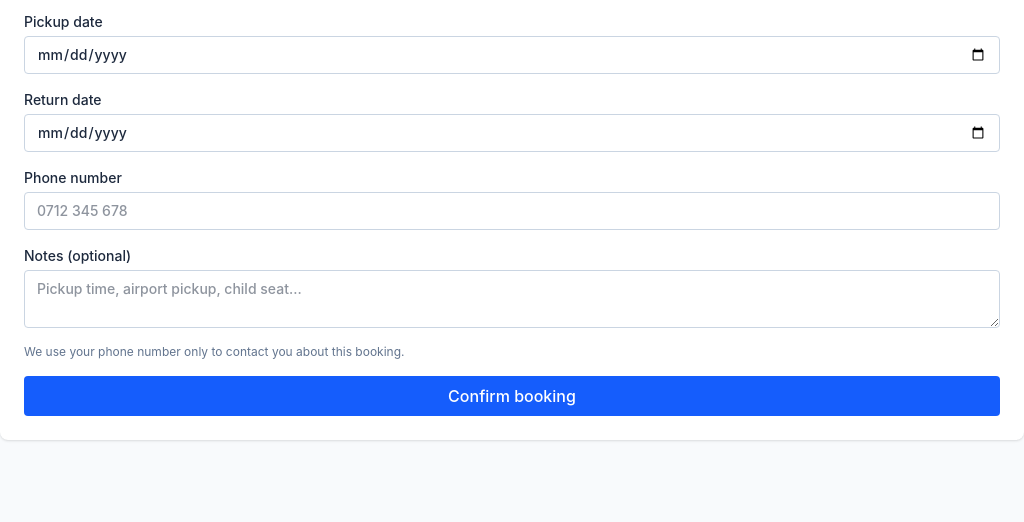
Test: BookingForm › shows the total price once the dates are valid
This screenshot has width=1024, height=522.
Step 1. Type "2099-01-10" into the date field labelled "Pickup date" → (512, 55), box [24,36,1000,74]
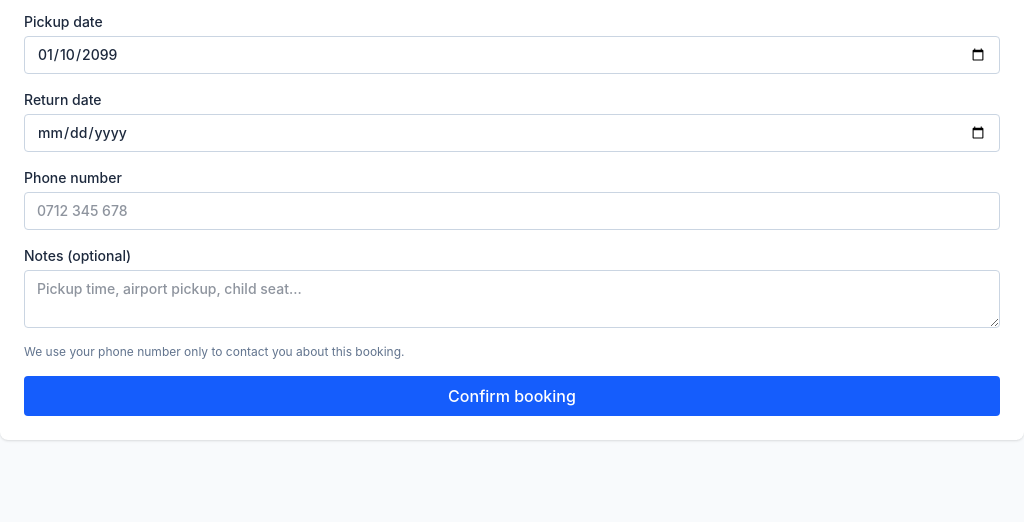
Step 2. Type "2099-01-13" into the date field labelled "Return date" → (512, 133), box [24,114,1000,152]
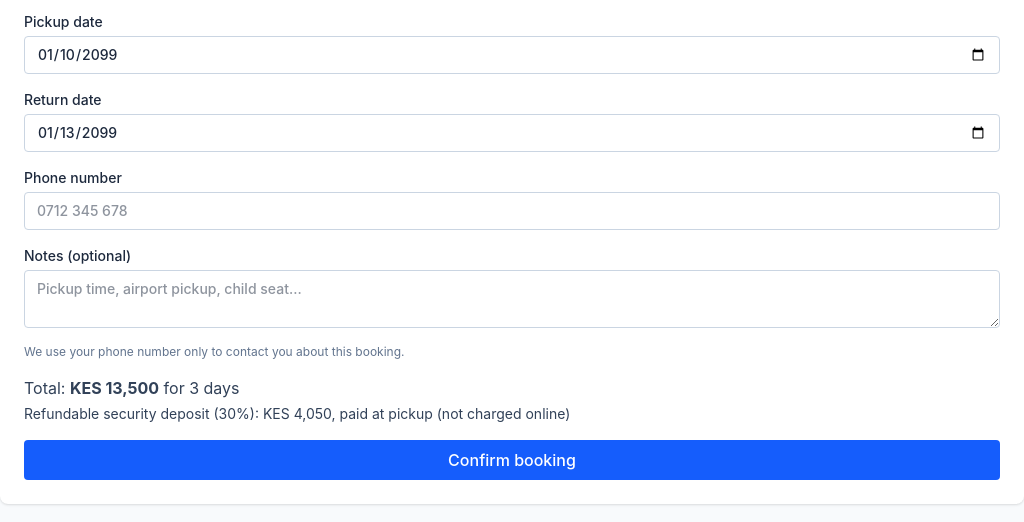
Expected: the text "KES 13,500" is shown, [70,378,159,398]
Expected: the text "Total: KES 13,500 for 3 days" is shown, [24,378,240,398]
